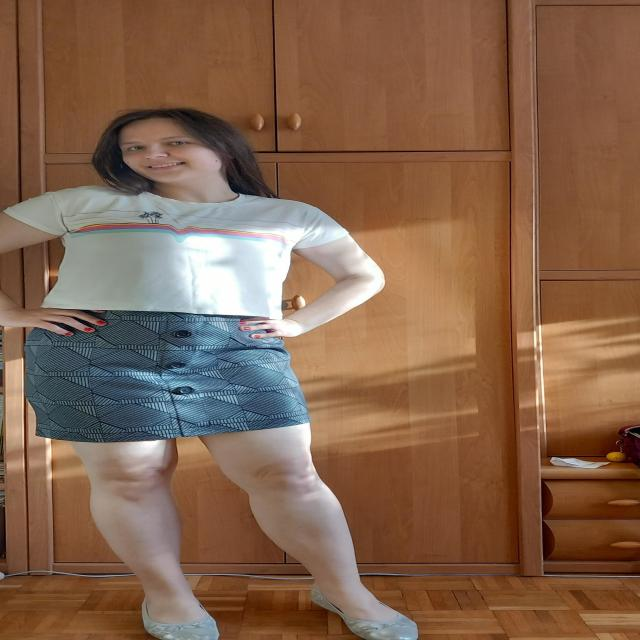Tshirt: (2, 185, 348, 320)
skirt: (24, 309, 310, 443)
